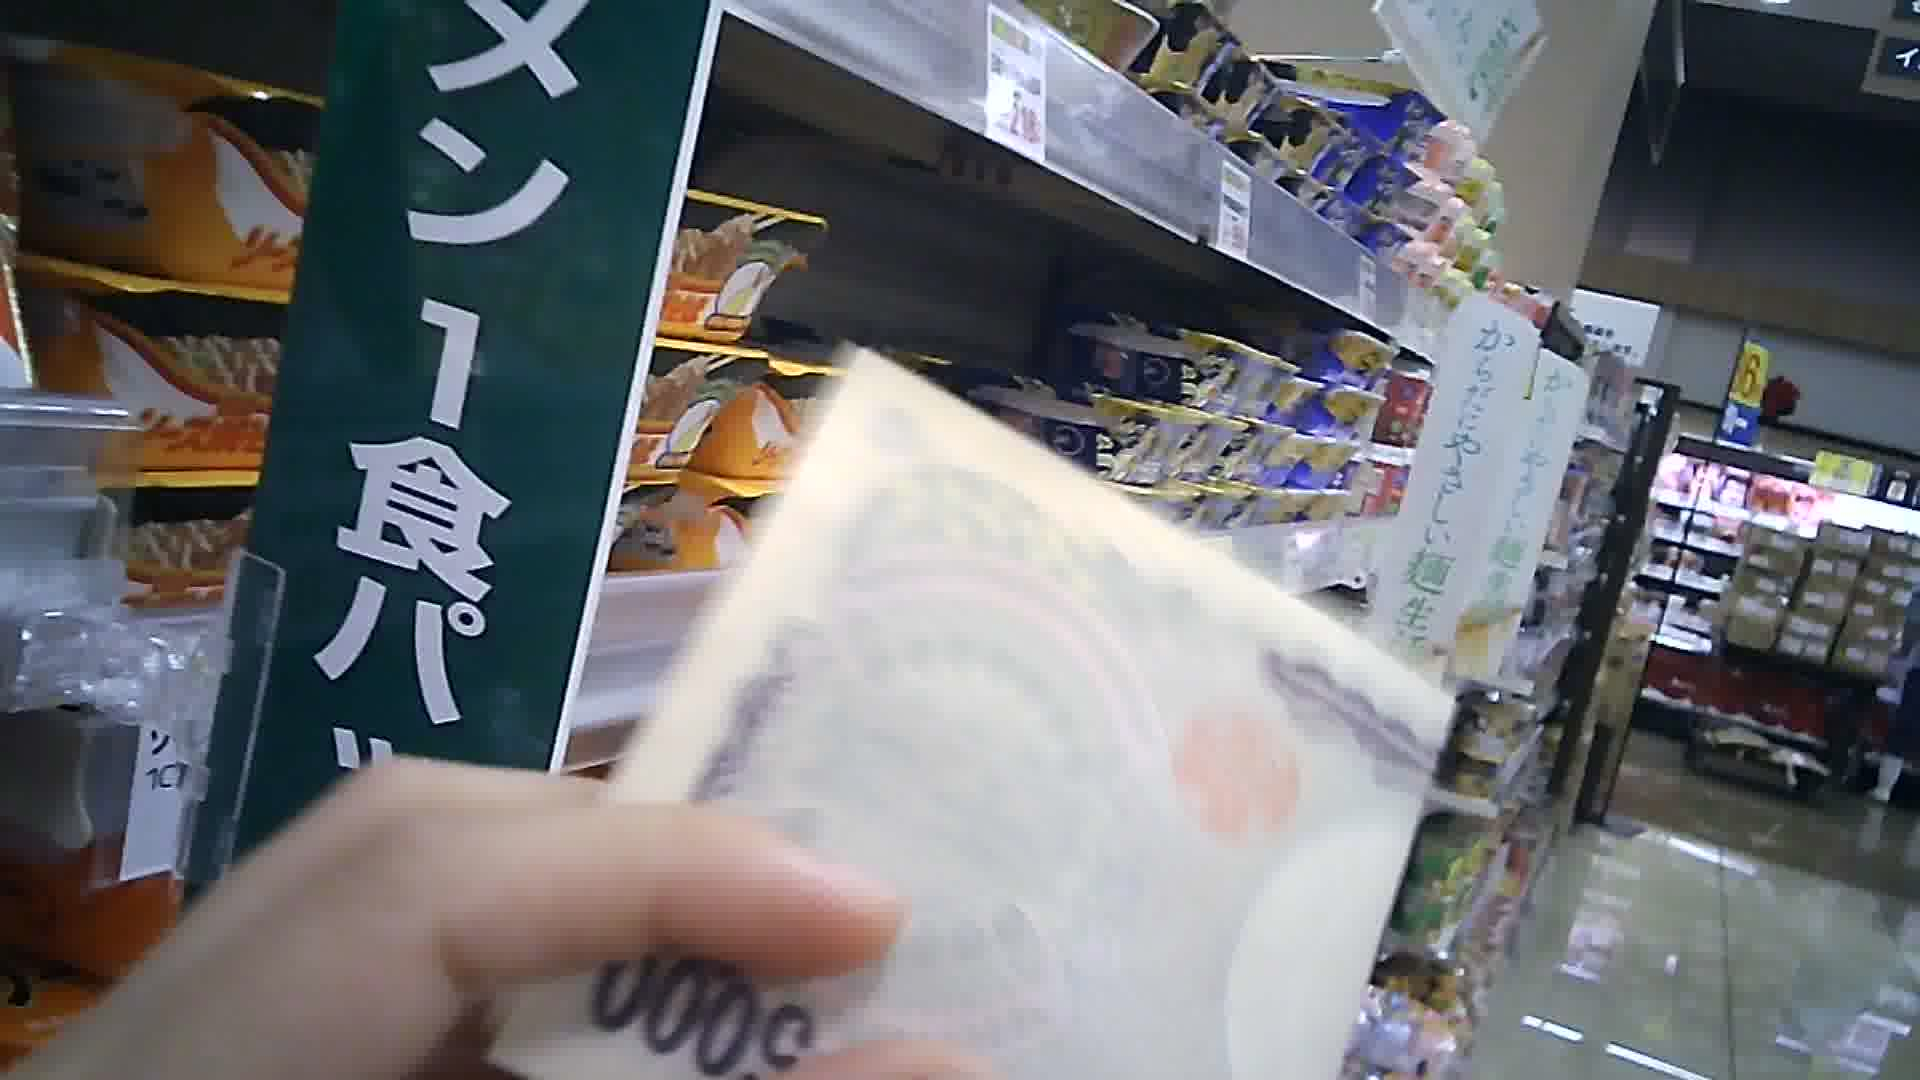5,000 Yen: (468, 306, 1461, 1069)
